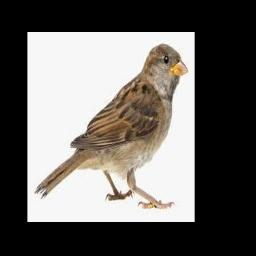Sparrow: (35, 44, 188, 209)
